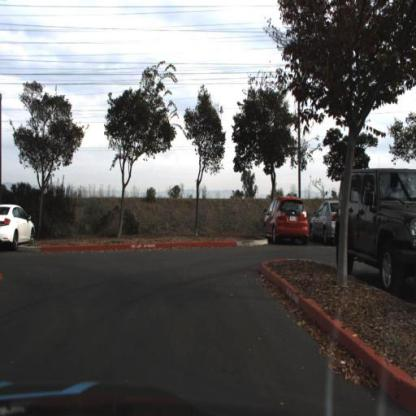car: (335, 168, 416, 293), (338, 170, 416, 294), (263, 195, 312, 246), (1, 204, 39, 250), (1, 205, 37, 250), (312, 197, 341, 246)
